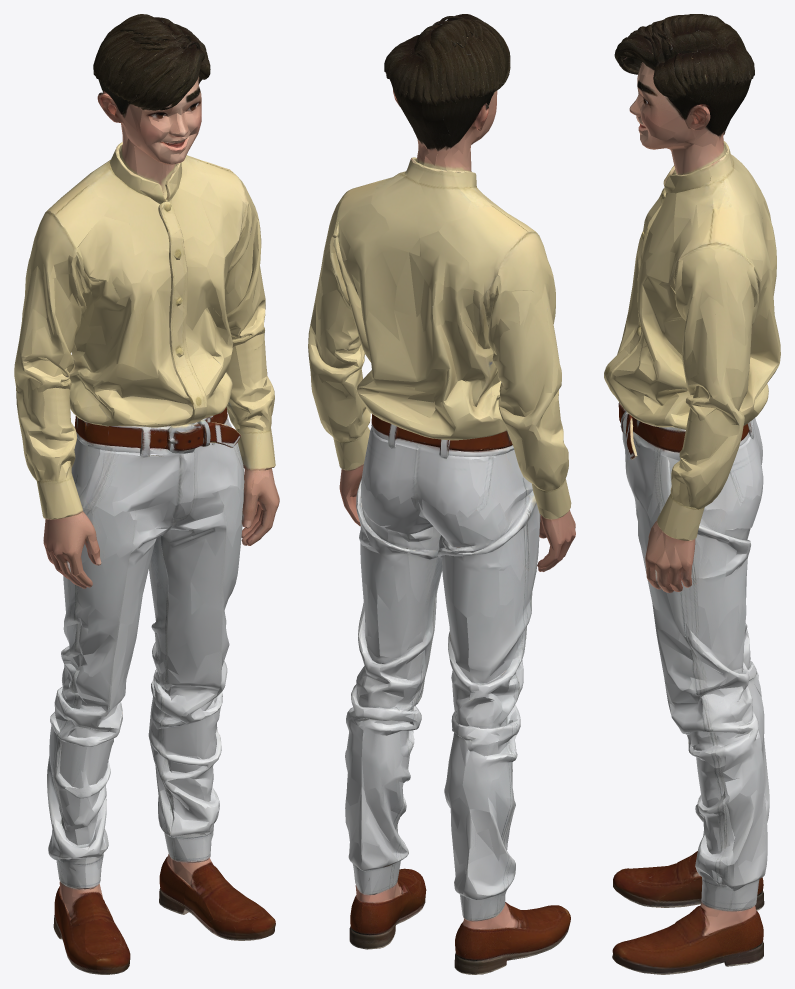
Rendered from maythas-character.glb.
3 views of the same model, side by side, from view 1: azimuth 30°, elevation 25°; view 2: azimuth 150°, elevation 25°; view 3: azimuth 270°, elevation 25° (orthographic).
Bounding box in the file's own units: 0.5367 × 1.9 × 0.3342.
1 material, 1 textured.
